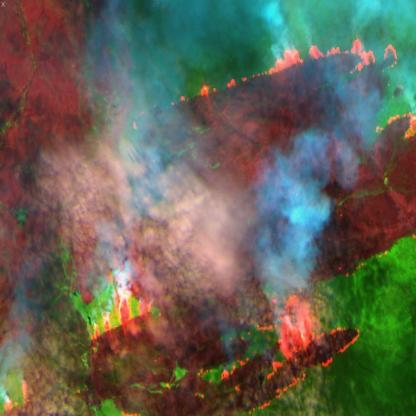fire: (127, 30, 416, 154), (216, 286, 358, 416), (82, 288, 160, 350)
